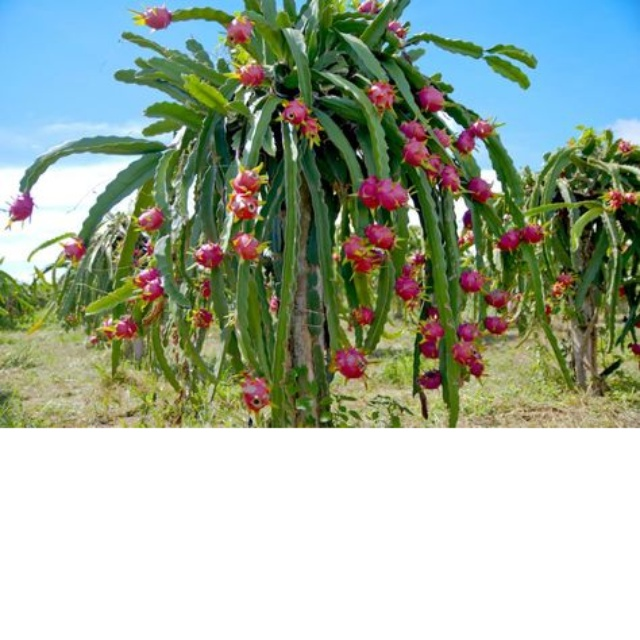tao: (216, 163, 280, 225), (226, 358, 279, 420), (349, 166, 419, 211), (380, 133, 441, 175), (334, 237, 388, 280), (3, 182, 44, 234), (218, 226, 269, 266), (361, 217, 411, 257), (230, 59, 289, 91), (406, 76, 451, 117), (461, 165, 503, 208), (489, 221, 551, 250), (214, 14, 265, 49), (125, 198, 171, 236), (358, 76, 401, 116), (449, 256, 491, 296), (127, 1, 173, 37), (128, 264, 166, 307), (334, 334, 363, 384), (192, 241, 233, 271), (352, 298, 382, 339), (417, 311, 449, 347), (454, 319, 493, 346), (64, 228, 85, 273), (275, 98, 314, 121)
